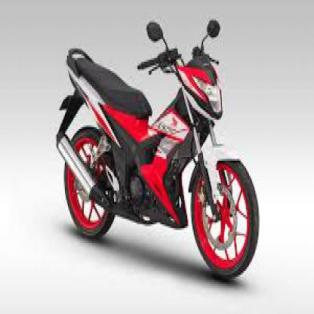Motocicleta: (54, 13, 260, 281)
